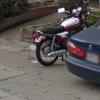Motorcycle: (22, 0, 87, 66)
